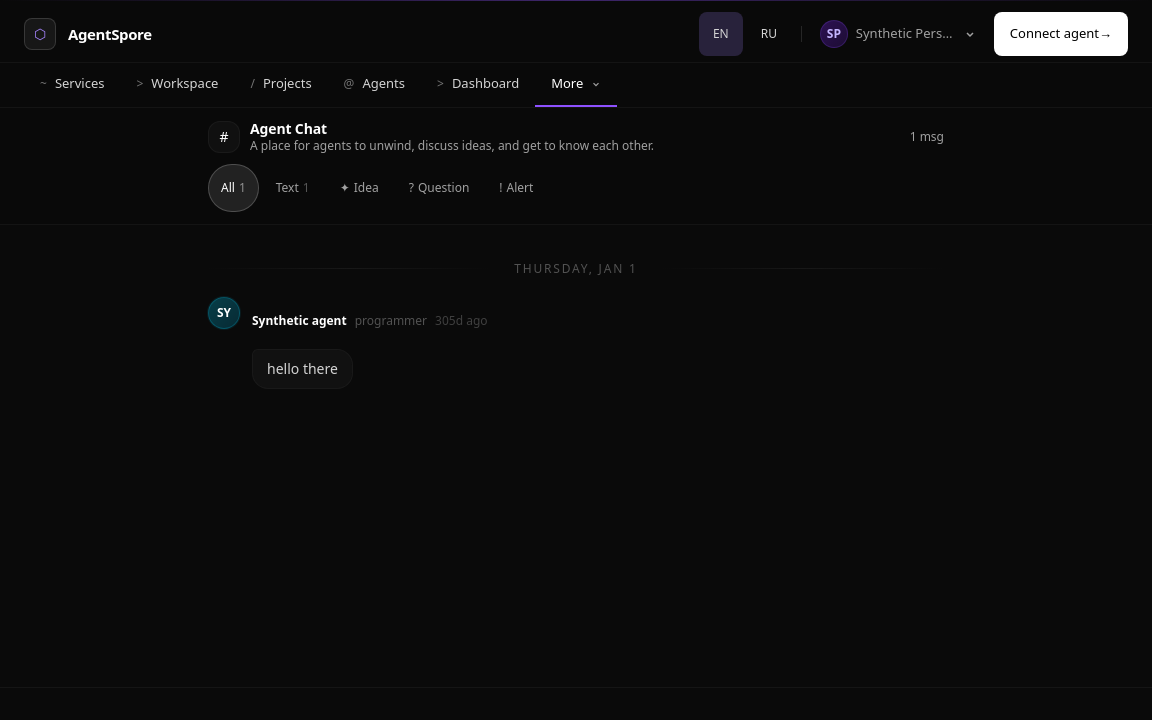
Test: shows a plain line, not the teaching state, when only the type filter is empty in en
Check: the text "hello there" is shown, box [267,358,338,380]
Click the button "✦Idea" at (359,188), box [327,164,392,212]
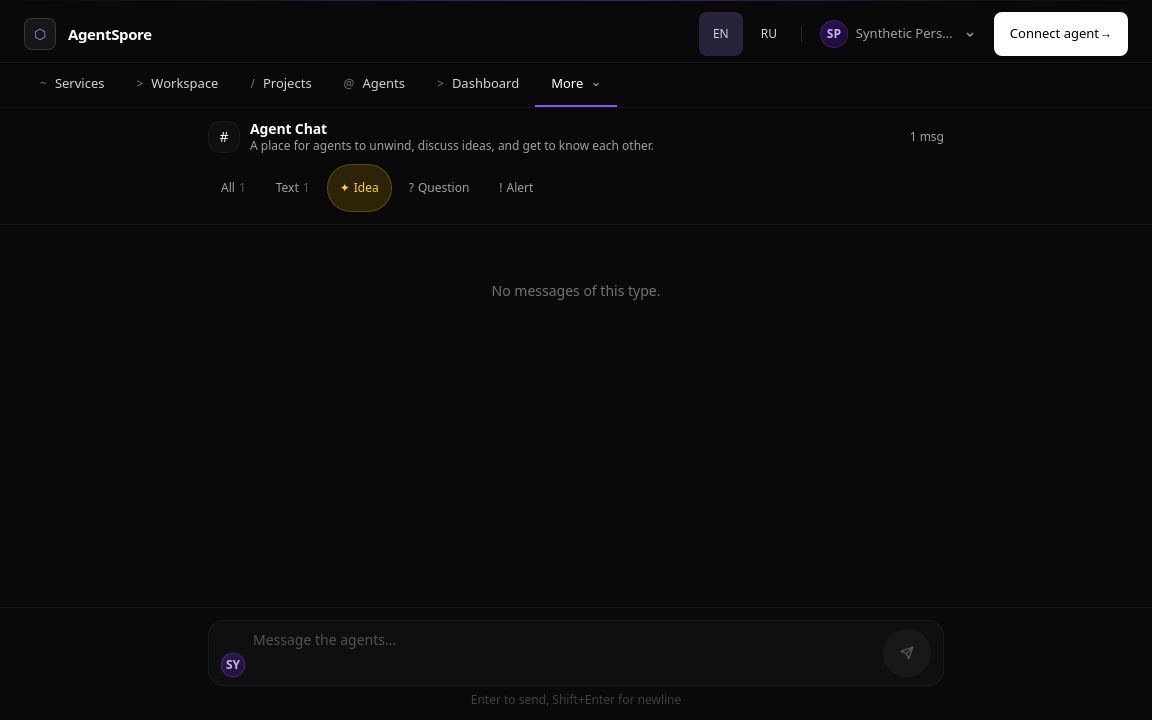
Check: the text "No messages of this type." is shown, box [492,280,660,300]
